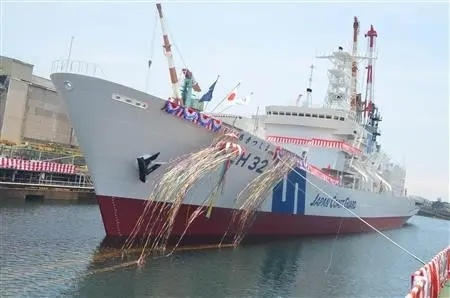Cargoship: (39, 21, 418, 258)
